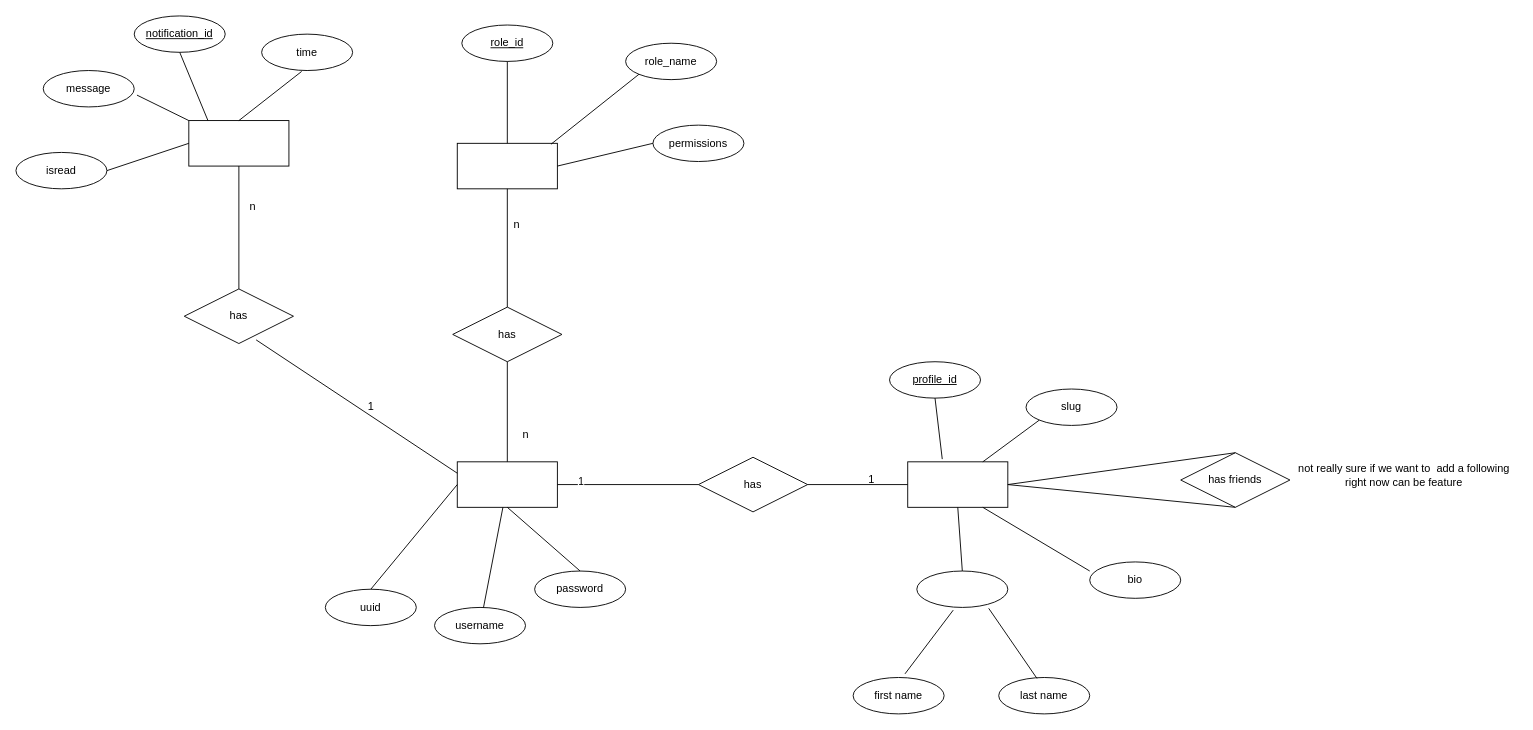
Image size: 1533x730. Some labels were removed from this diagram. Here are the shapes that lost their labels. From the top down, the centre of each, then its label:
the point at 238,143: notification
the point at 506,165: roles
the point at 506,484: user
the point at 957,484: profile
the point at 962,588: full name
